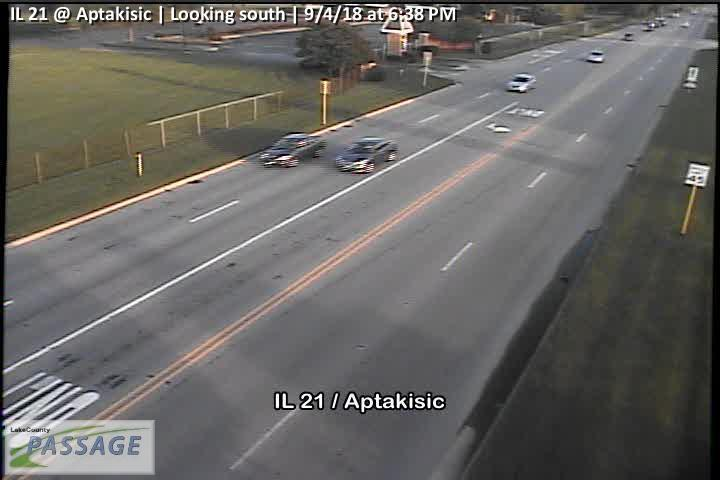Sedan: (334, 136, 400, 173), (259, 132, 326, 168), (508, 73, 537, 93), (587, 49, 604, 63)
